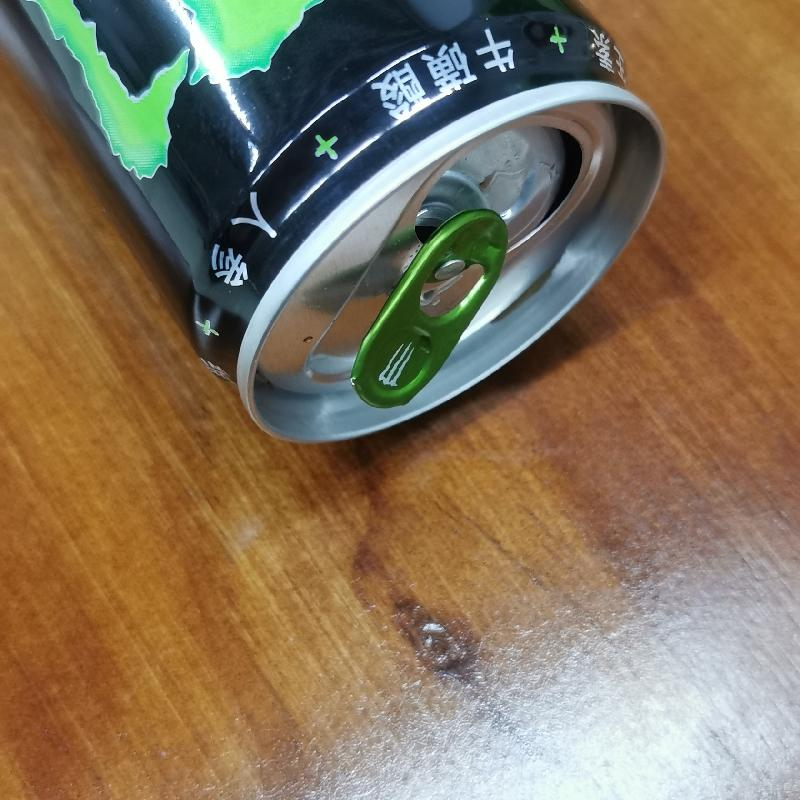cans: (1, 1, 669, 455)
